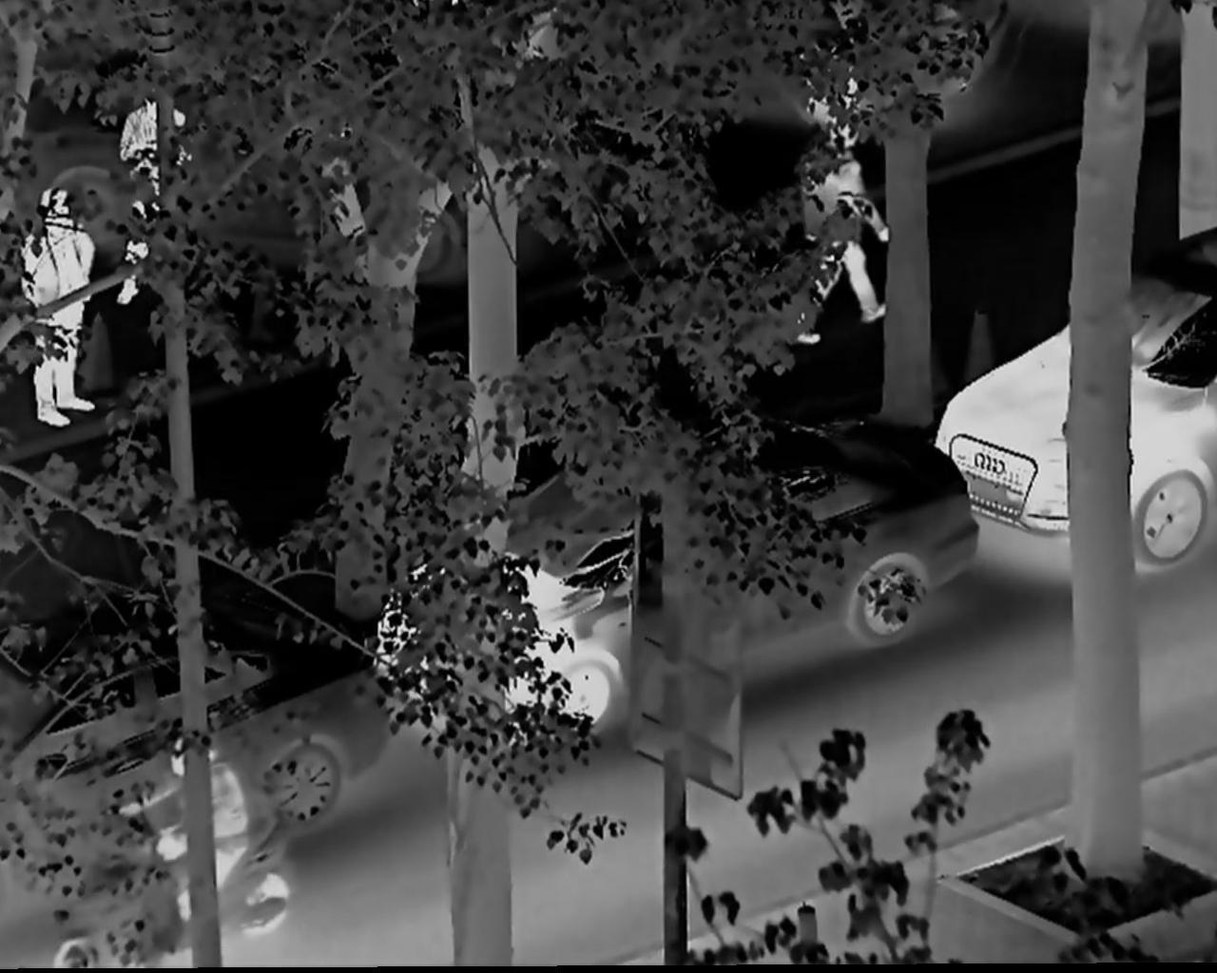person: (792, 104, 887, 351), (122, 740, 246, 920), (110, 87, 201, 304), (26, 183, 102, 429)
